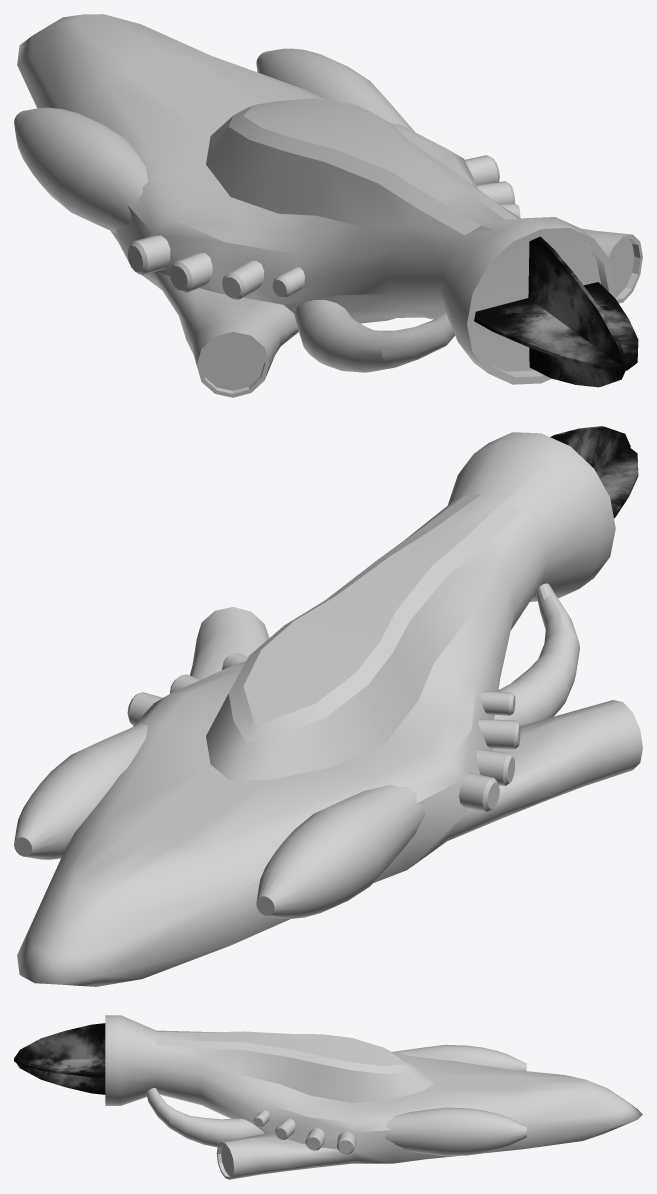
File: boat_03.fbx
3 renders of one model, top to bottom at view 1: azimuth 30°, elevation 25°; view 2: azimuth 150°, elevation 25°; view 3: azimuth 270°, elevation 25°, orthographic. The views are drawn at different scales.
Visible parts, largest first — view 1: boat_03, fire; view 2: boat_03, fire; view 3: boat_03, fire.
Part boxes in pixels (left/top/right/bottom): boat_03: left=14, top=14, right=642, bottom=397; fire: left=474, top=236, right=638, bottom=387; boat_03: left=14, top=432, right=642, bottom=986; fire: left=550, top=426, right=638, bottom=518; boat_03: left=105, top=1015, right=642, bottom=1179; fire: left=14, top=1023, right=105, bottom=1094.
Size of the model in its own units: 12.37 by 5.41 by 28.45.
